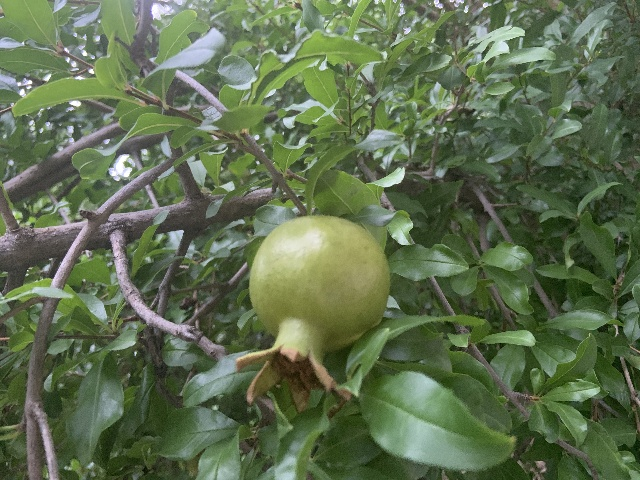mid-growth: (234, 214, 390, 410)
